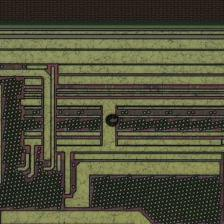PARTICLE: (103, 111, 123, 131)
